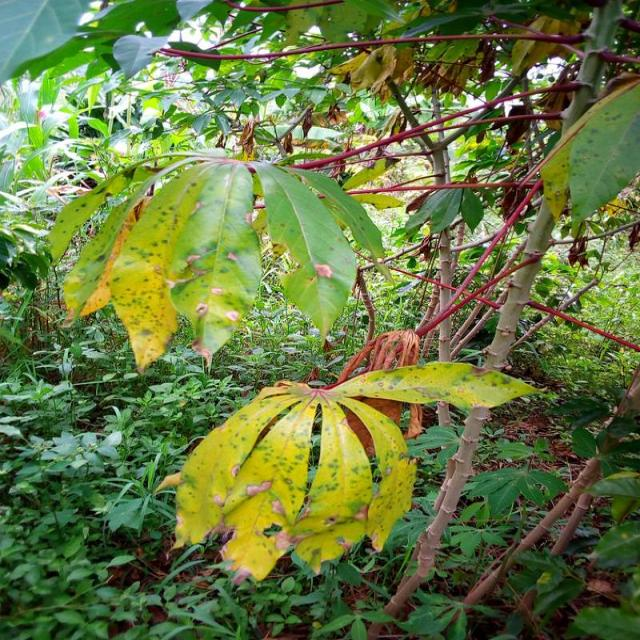cassava leaf: (169, 358, 541, 586), (48, 150, 385, 374), (540, 70, 638, 224)
